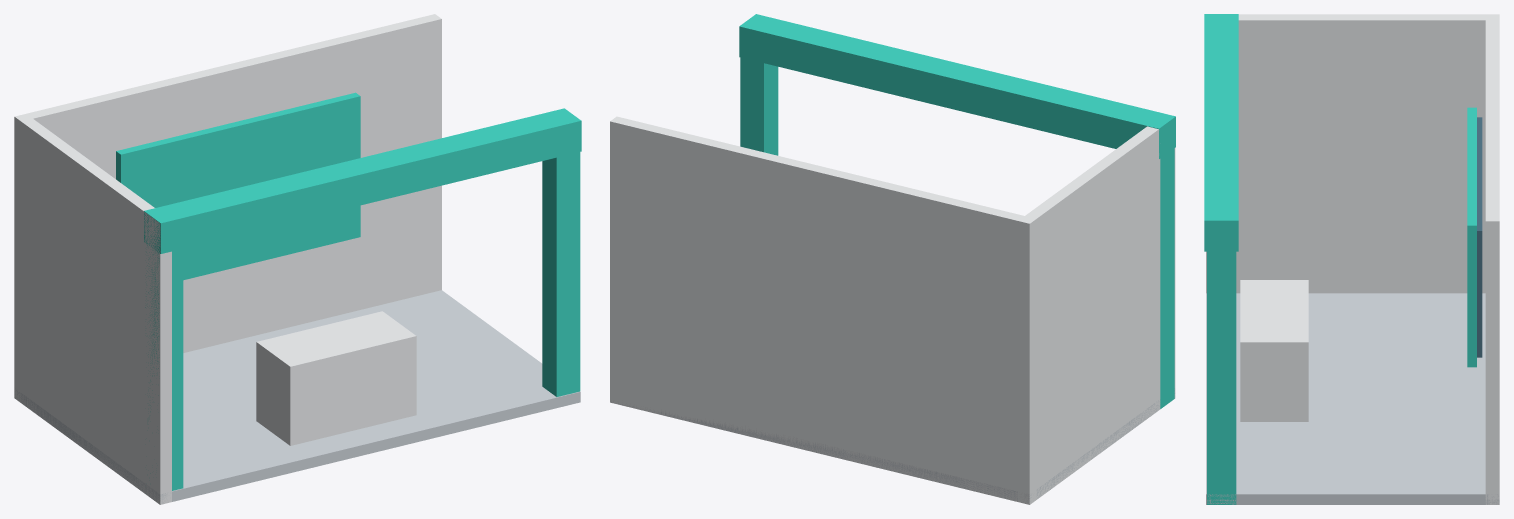
3 views of the same model, side by side, from view 1: azimuth 30°, elevation 25°; view 2: azimuth 150°, elevation 25°; view 3: azimuth 270°, elevation 25° (orthographic).
Parts seen in each view (by area): view 1: Exhibition Booth Concept; view 2: Exhibition Booth Concept; view 3: Exhibition Booth Concept.
Boxes of the visible parts, x1,y1,x2,y2 form: Exhibition Booth Concept: (14,14,581,504); Exhibition Booth Concept: (610,14,1175,504); Exhibition Booth Concept: (1204,14,1499,504).
Bounding box in the file's own units: 5 × 3.2 × 3.01.
